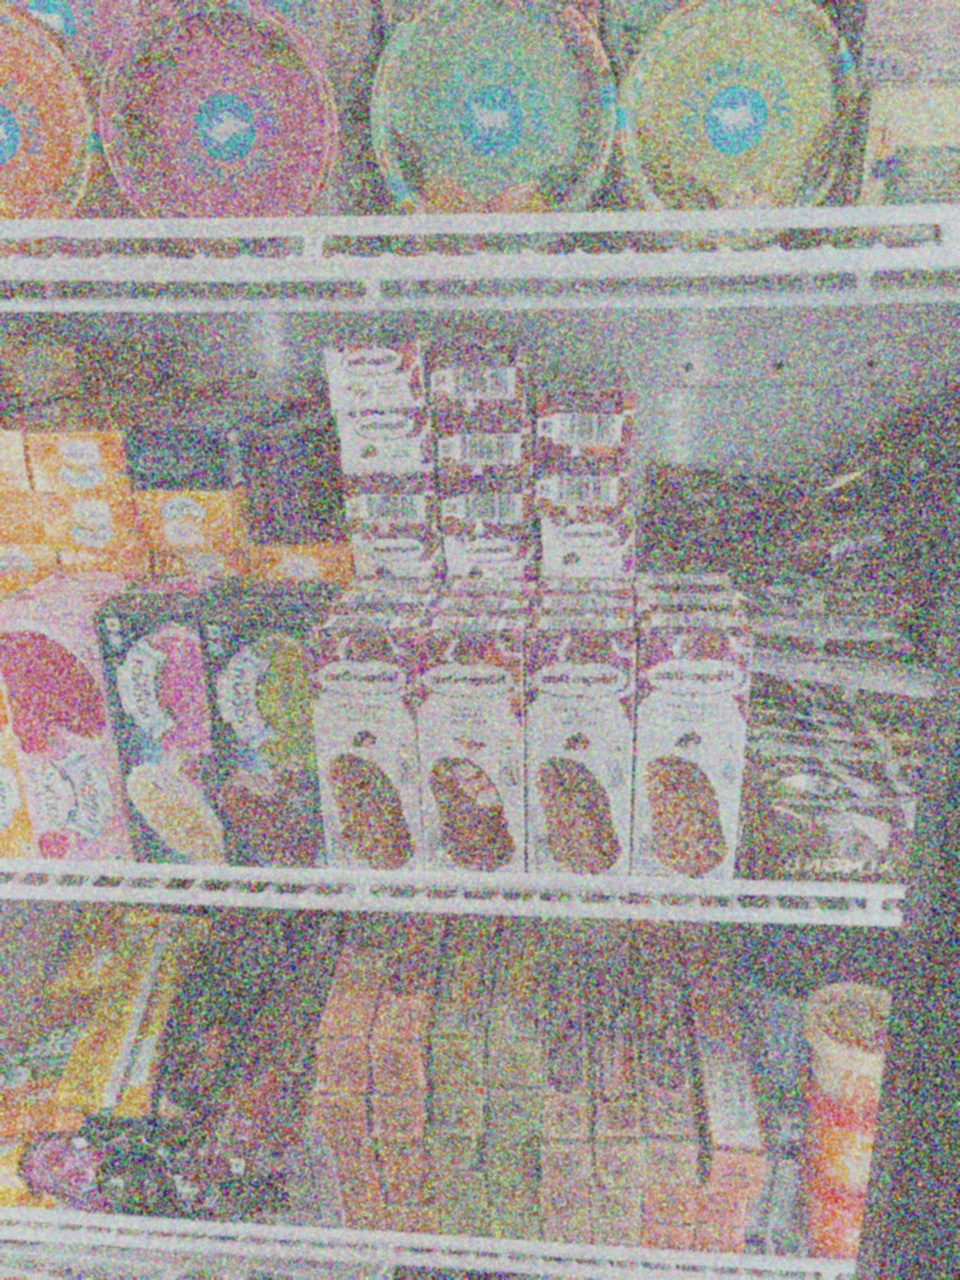Haagen-Dazs IceCream Bars: (625, 612, 757, 897), (526, 610, 641, 883), (418, 614, 528, 885), (325, 613, 422, 881), (425, 332, 547, 413), (532, 383, 646, 465), (328, 406, 447, 480), (313, 338, 425, 410), (535, 514, 641, 586), (435, 405, 535, 480), (340, 469, 444, 540), (445, 513, 545, 587), (527, 451, 635, 518), (435, 465, 542, 528), (354, 523, 437, 583)
